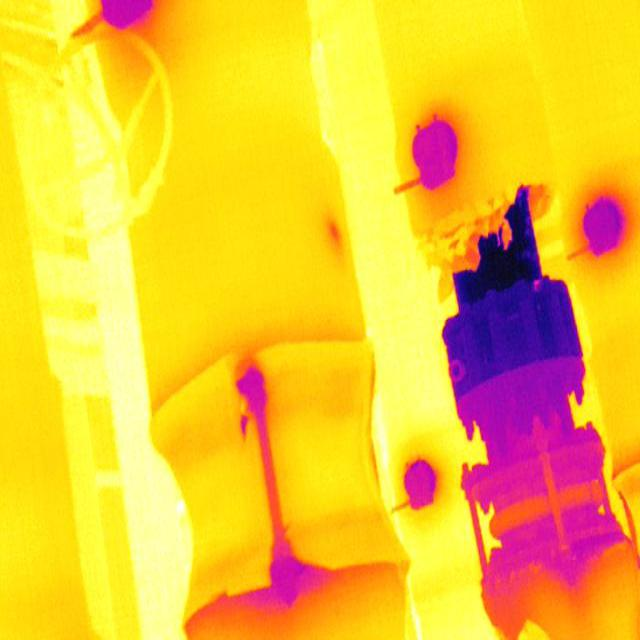leakage: (317, 207, 350, 253)
